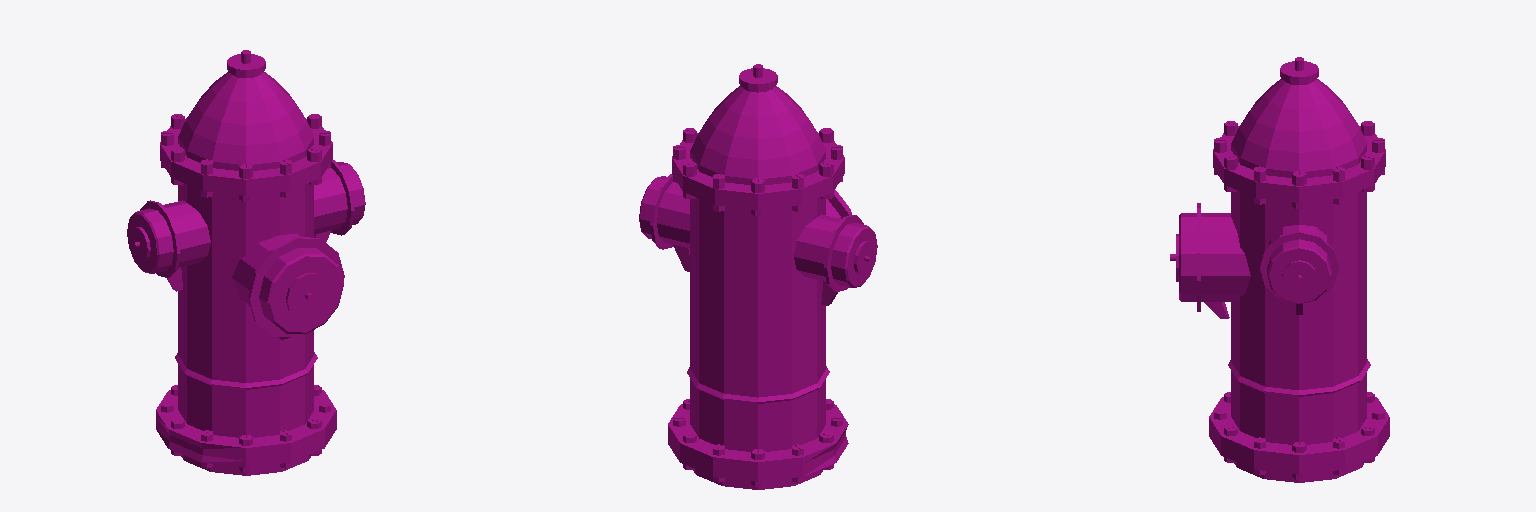
File: firehydrant_001.obj
3 views of the same model, side by side, from view 1: azimuth 30°, elevation 25°; view 2: azimuth 150°, elevation 25°; view 3: azimuth 270°, elevation 25° (orthographic).
Parts seen in each view (by area): view 1: Cylinder001; view 2: Cylinder001; view 3: Cylinder001.
Boxes of the visible parts, box(x1,y1,x2,y2) form: Cylinder001: box(127, 50, 365, 475); Cylinder001: box(639, 64, 877, 489); Cylinder001: box(1170, 57, 1389, 482).
Bounding box in the file's own units: 72 × 121 × 61.18.